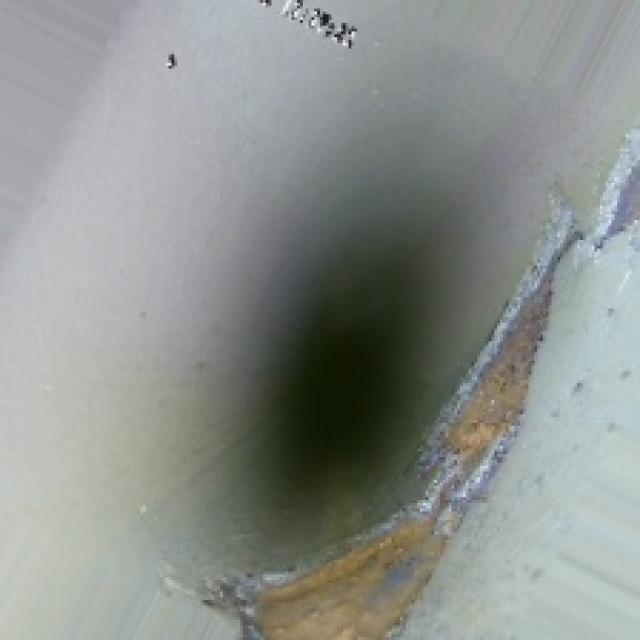pipe_surface_damage: (211, 252, 600, 637)
